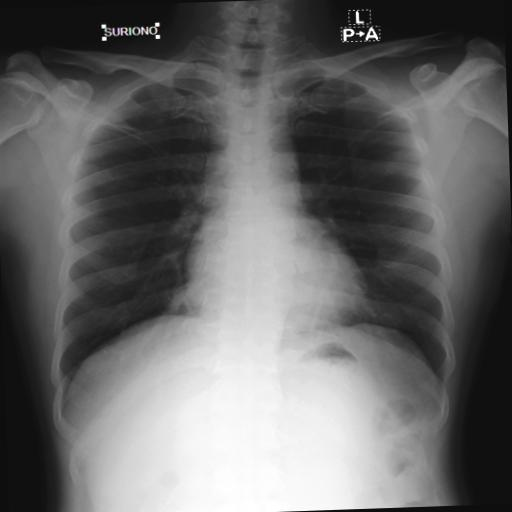normal: (30, 22, 459, 413)
